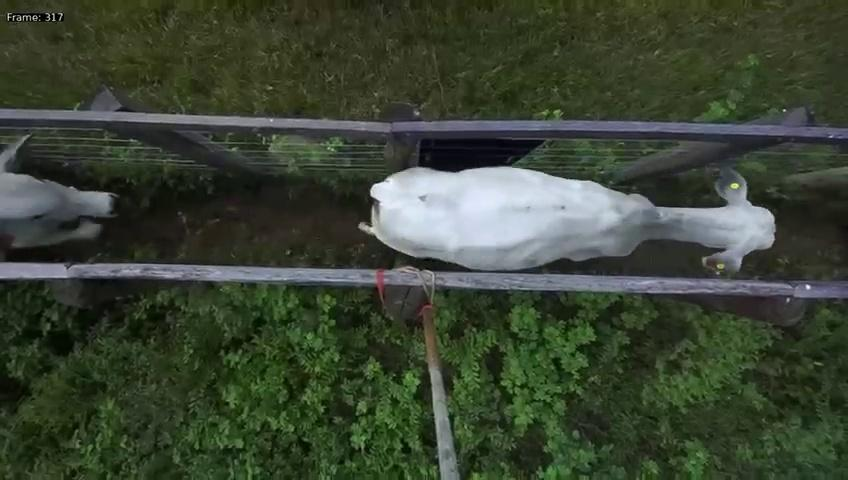cattle: (352, 135, 777, 278)
